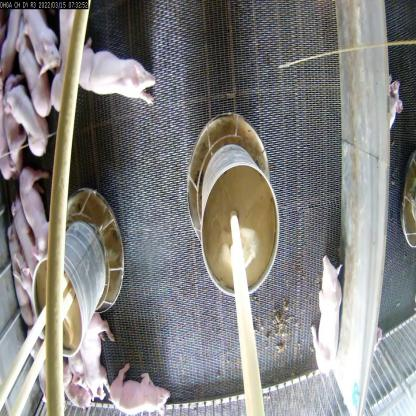Pig: (302, 250, 356, 382), (75, 37, 157, 108), (62, 293, 111, 399), (15, 167, 58, 268), (99, 364, 170, 416), (47, 10, 83, 112), (7, 28, 50, 110), (9, 209, 47, 295), (17, 0, 61, 72), (10, 79, 48, 154), (5, 235, 31, 317)
